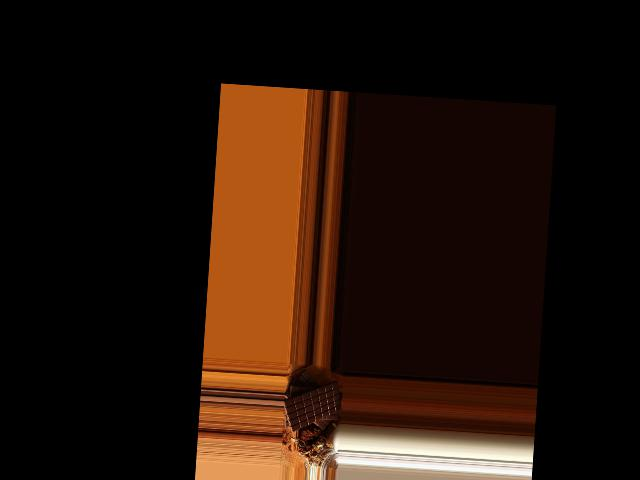chocolate: (281, 377, 340, 437)
